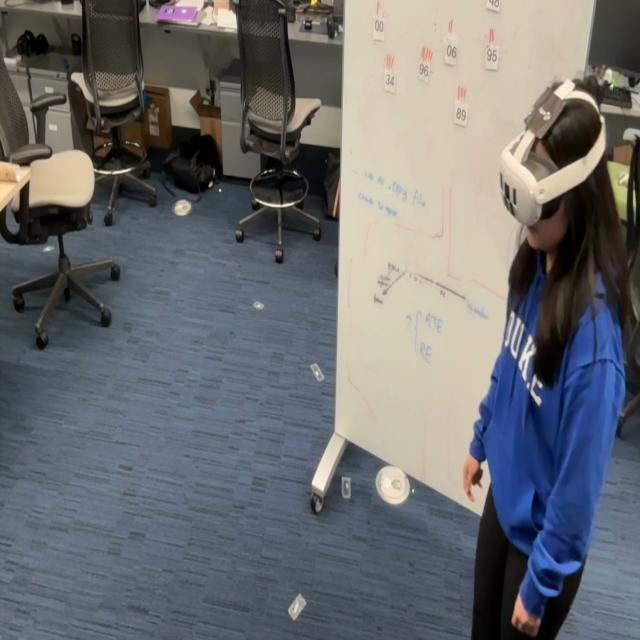Headset: (498, 78, 607, 228)
UnityLogo: (524, 83, 563, 144)
